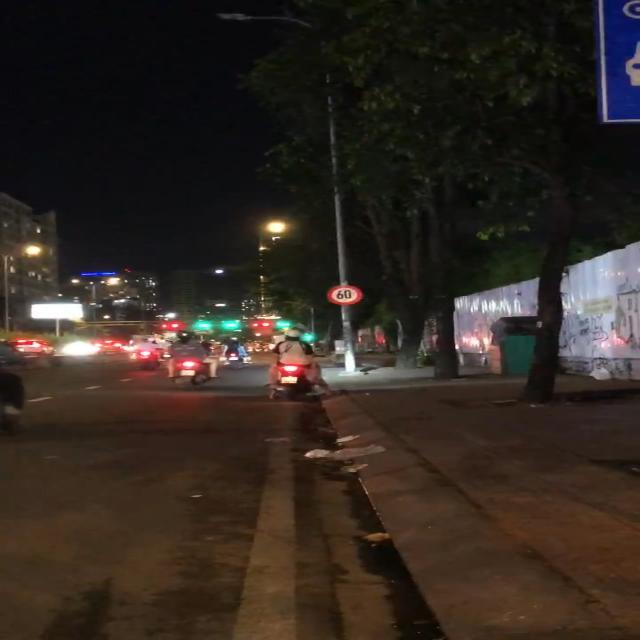Bien bao toc do toi da cho phep: (325, 280, 365, 307)
